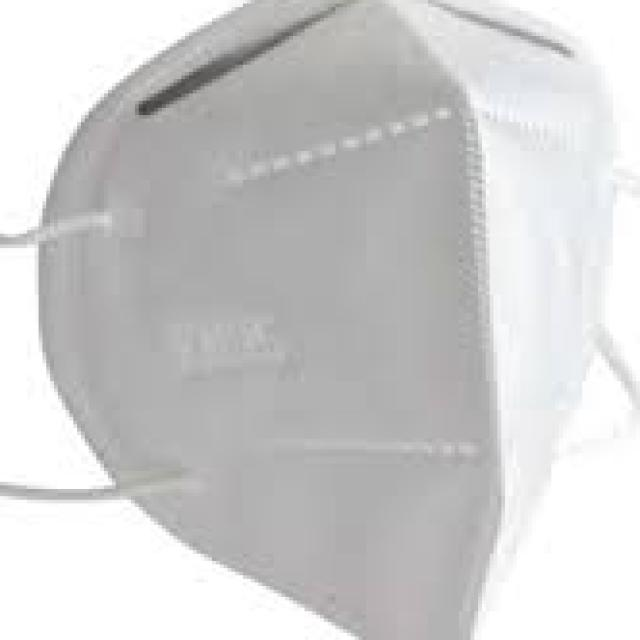organic: (38, 1, 599, 625)
